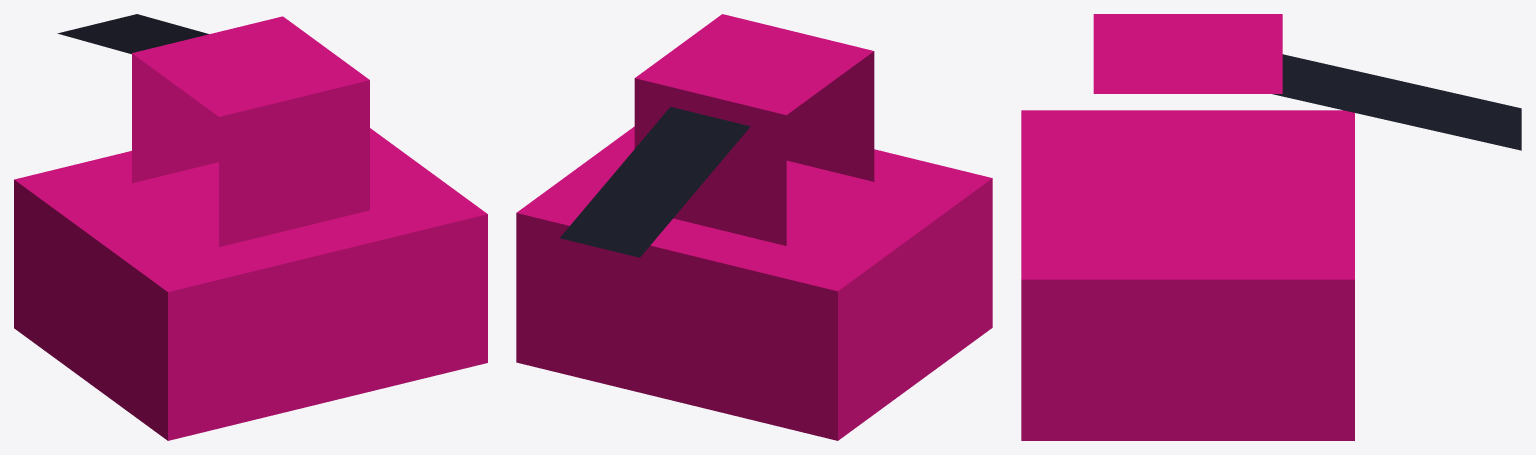
File: turret.obj
The picture shows the model from 3 angles, left to right: view 1: azimuth 30°, elevation 25°; view 2: azimuth 150°, elevation 25°; view 3: azimuth 270°, elevation 25°; orthographic projection. The views are drawn at different scales.
Visible parts, largest first — view 1: planet_turret; view 2: planet_turret; view 3: planet_turret.
Part boxes in pixels (box(x1,y1,x2,y2)): planet_turret: box(14, 14, 487, 440); planet_turret: box(516, 14, 992, 440); planet_turret: box(1021, 14, 1521, 440).
Size of the model in its own units: 1.44 by 1.2 by 1.8.
